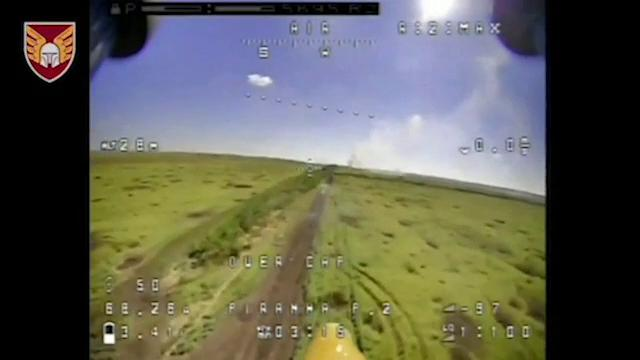tank: (315, 181, 330, 199)
